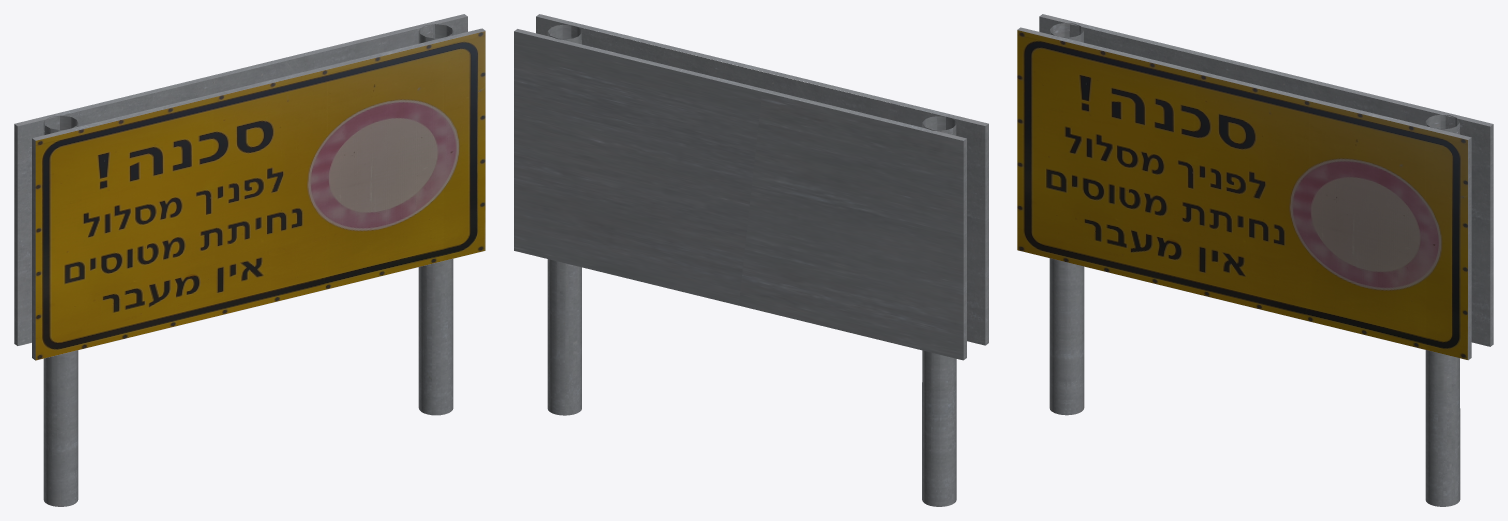
The model's file is KibuiSacanaShelet_LOD1.gltf.
The picture shows the model from 3 angles, left to right: view 1: azimuth 30°, elevation 25°; view 2: azimuth 150°, elevation 25°; view 3: azimuth 330°, elevation 25°; orthographic projection.
Visible parts, largest first — view 1: node4, node3; view 2: node3; view 3: node4, node3.
Boxes of the visible parts, x1,y1,x2,y2 form: node4: (35, 31, 485, 360); node3: (14, 14, 485, 506); node3: (514, 14, 988, 506); node4: (1017, 30, 1468, 359); node3: (1017, 14, 1493, 506).
Bounding box in the file's own units: 1.51 × 1.2 × 0.1351.
